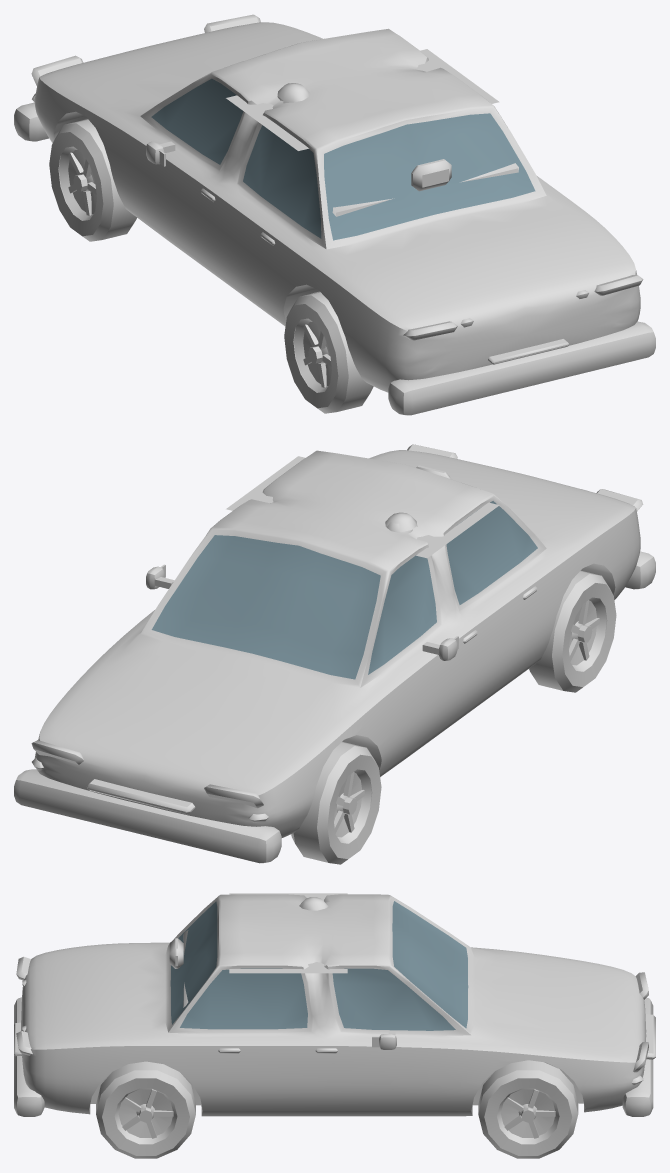
Rendered from car_sedan.glb.
3 renders of one model, top to bottom at view 1: azimuth 30°, elevation 25°; view 2: azimuth 150°, elevation 25°; view 3: azimuth 270°, elevation 25°, orthographic. The views are drawn at different scales.
Visible parts, largest first — view 1: car_sedan; view 2: car_sedan; view 3: car_sedan.
Part boxes in pixels (box(x1,y1,x2,y2)): car_sedan: box(14, 14, 655, 415); car_sedan: box(14, 444, 655, 864); car_sedan: box(14, 893, 655, 1158).
Bounding box in the file's own units: 2.06 × 1.48 × 4.62.
